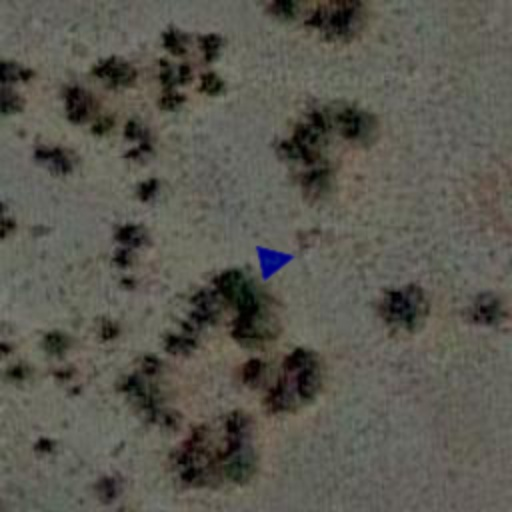triangle: (256, 238, 300, 282)
